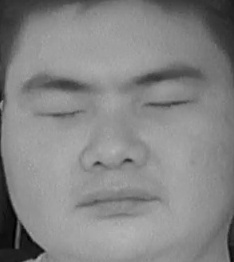blink: (37, 96, 85, 132), (145, 85, 188, 119)
mouth: (70, 179, 159, 223)
